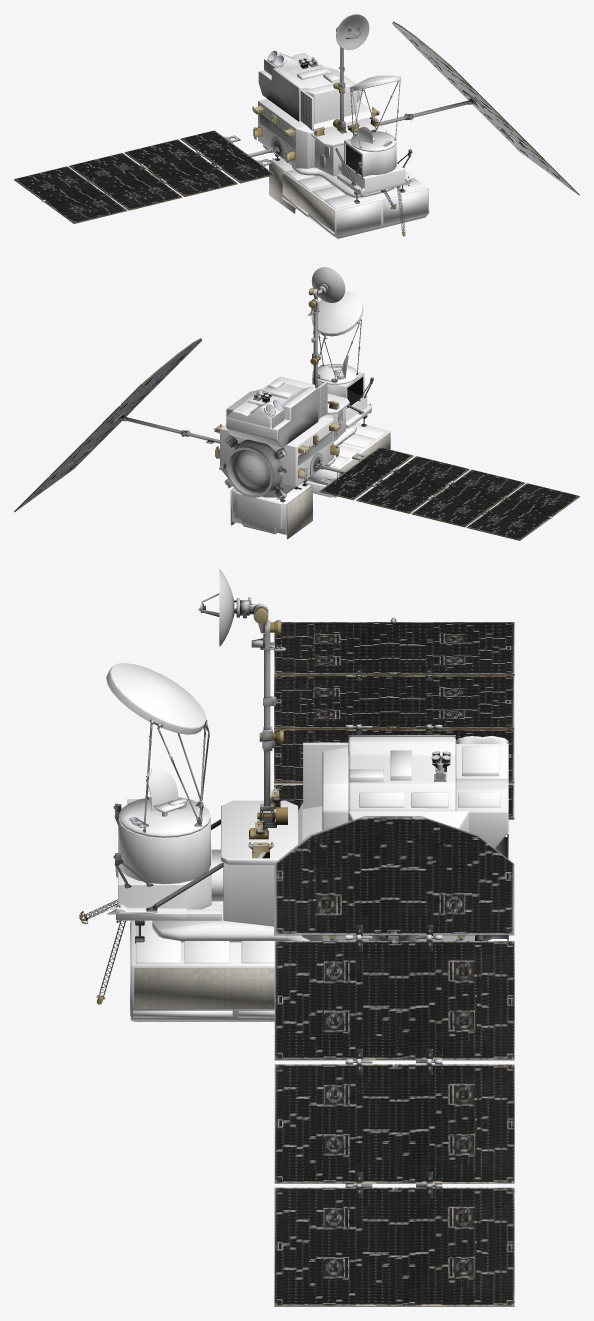
The model's file is gpm.glb.
3 renders of one model, top to bottom at view 1: azimuth 30°, elevation 25°; view 2: azimuth 150°, elevation 25°; view 3: azimuth 270°, elevation 25°, orthographic. The views are drawn at different scales.
Visible parts, largest first — view 1: bus_2, bus_1, gmi_2; view 2: bus_2, bus_1, gmi_2; view 3: bus_2, bus_1, gmi_2.
Part boxes in pixels (<box>): bus_2: <box>14,14,579,238</box>; bus_1: <box>260,53,360,123</box>; gmi_2: <box>349,75,401,151</box>; bus_2: <box>14,267,579,540</box>; bus_1: <box>226,376,316,447</box>; gmi_2: <box>311,291,363,384</box>; bus_2: <box>79,569,514,1306</box>; bus_1: <box>322,736,508,848</box>; gmi_2: <box>106,663,210,837</box>.
Bounding box in the file's own units: 13.52 × 6.35 × 5.02.
Materials: 12 (10 with a texture image).
